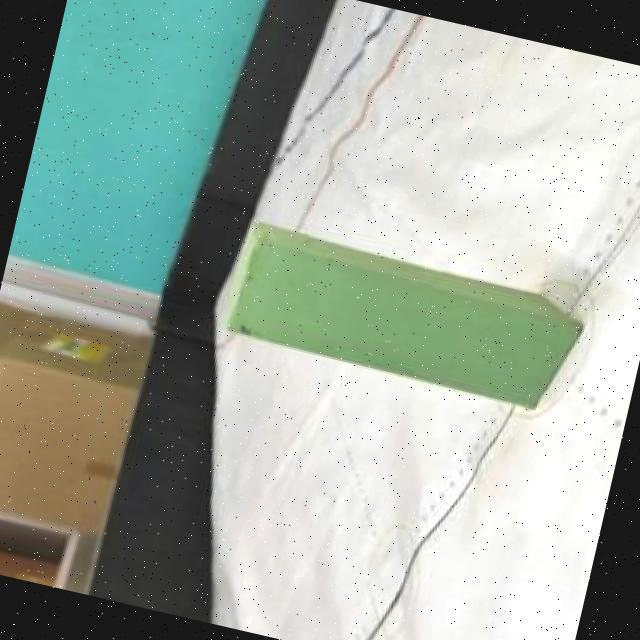greenbox: (209, 213, 592, 420)
